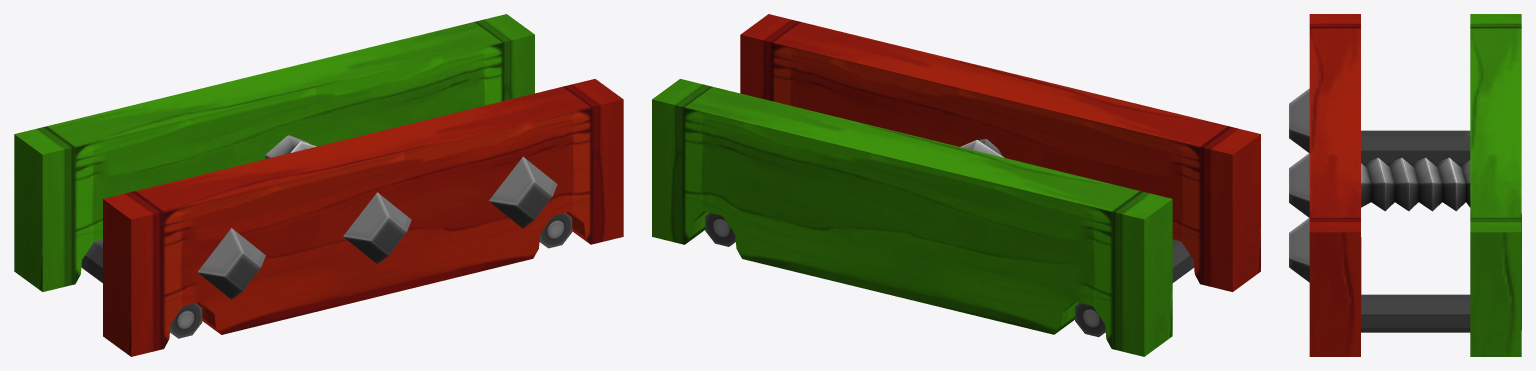
Rendered from dynamic_fence_burger_02.fbx.
3 renders of one model, left to right at view 1: azimuth 30°, elevation 25°; view 2: azimuth 150°, elevation 25°; view 3: azimuth 270°, elevation 25°, orthographic. The views are drawn at different scales.
Visible parts, largest first — view 1: front_wall_15, back_wall_12, spring_21; view 2: back_wall_12, front_wall_15; view 3: back_wall_12, front_wall_15, spring_21.
Part boxes in pixels (<box>): front_wall_15: <box>103,79,623,356</box>; back_wall_12: <box>14,14,572,338</box>; spring_21: <box>265,135,316,159</box>; back_wall_12: <box>652,79,1193,356</box>; front_wall_15: <box>740,14,1260,291</box>; back_wall_12: <box>1361,14,1521,356</box>; front_wall_15: <box>1289,14,1361,356</box>; spring_21: <box>1361,157,1470,211</box>.
Bounding box in the file's own units: 150 × 40 × 67.66.
